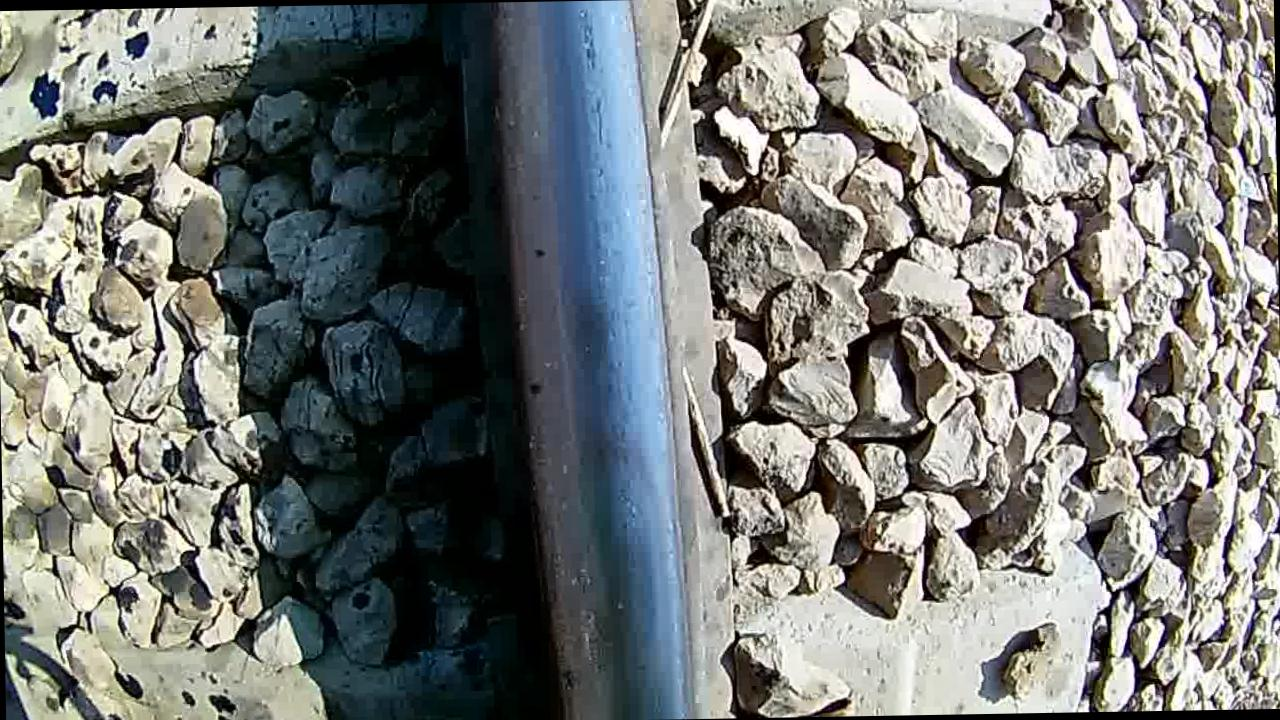crack: (495, 0, 674, 720)
